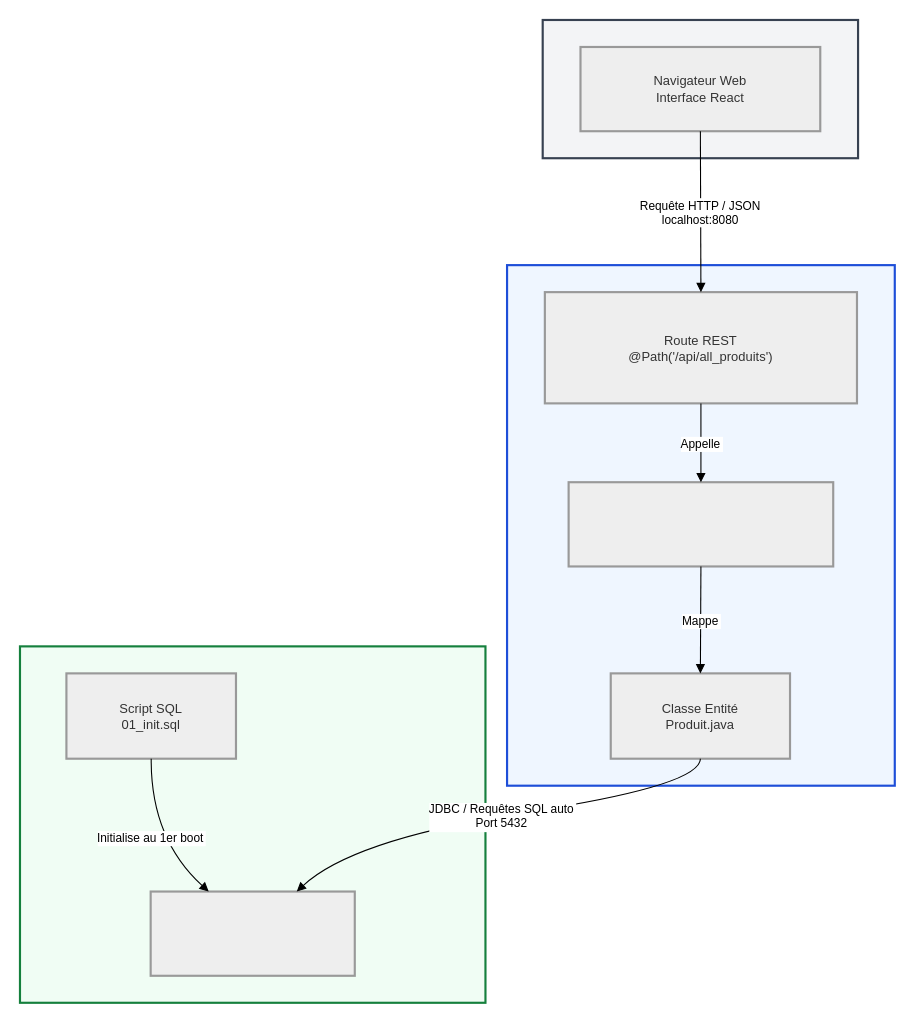
Some shapes in this 914 by 1022 pixel diagram are drawn without their labels. Here are the shapes that lost their labels. From the top down, the box of each, then its label:
(505, 264, 895, 786): 2. Couche Back-end (Quarkus / Java)
(567, 481, 834, 567): Hibernate ORM + Panache Gestion active record
(149, 890, 355, 976): Conteneur Docker PostgreSQL
